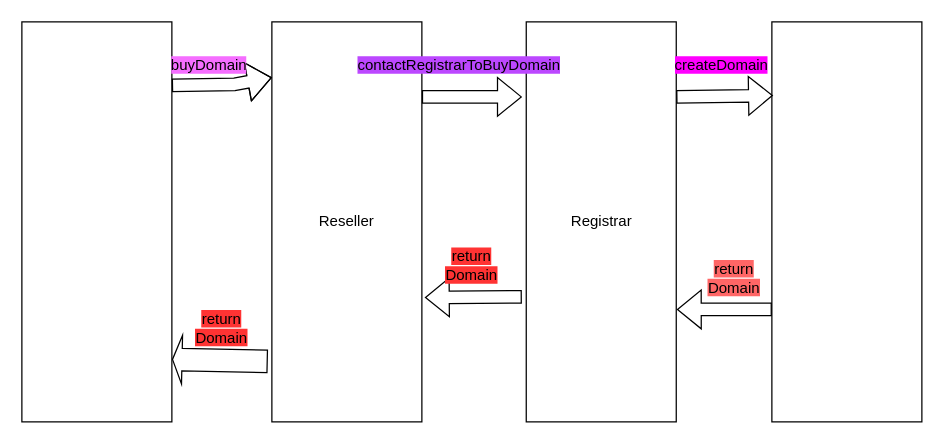
This 944x444 diagram has some shape labels left out. Each missing label, with the centre of its shape:
Customer: the point at 96,221
Registry: the point at 846,221
